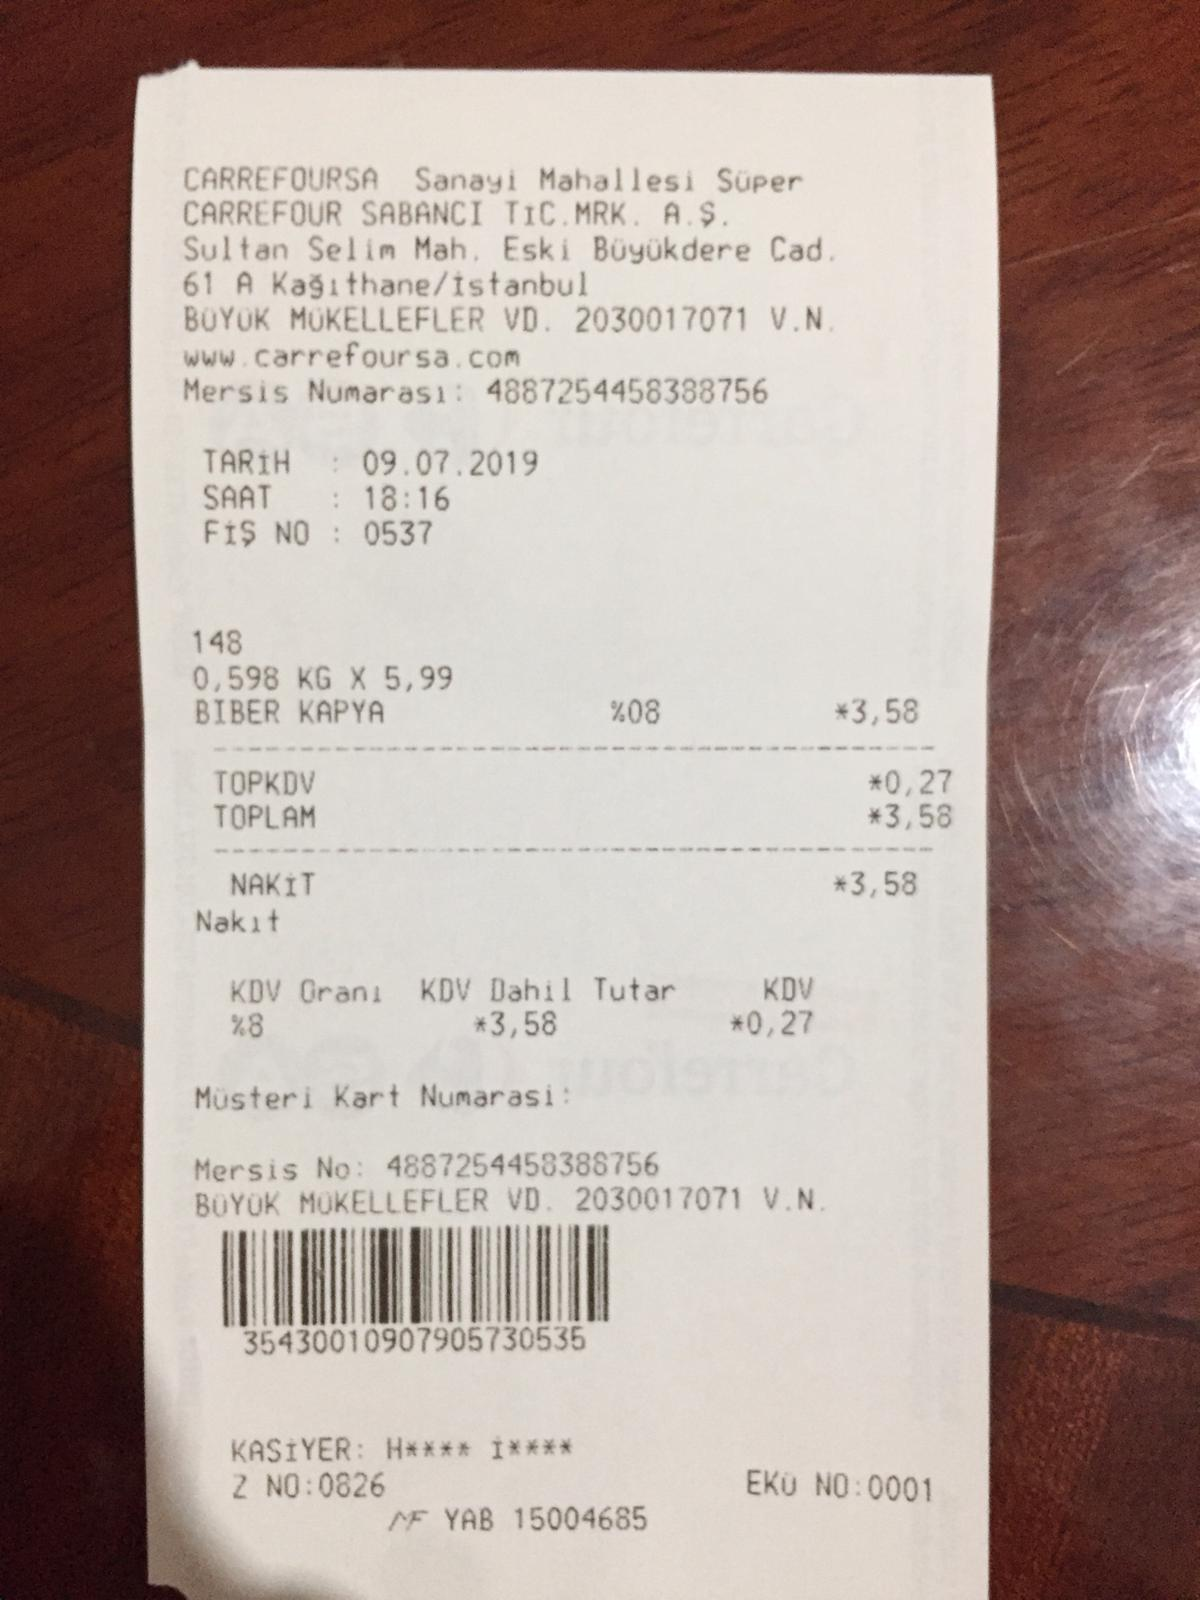total: (211, 799, 975, 840)
